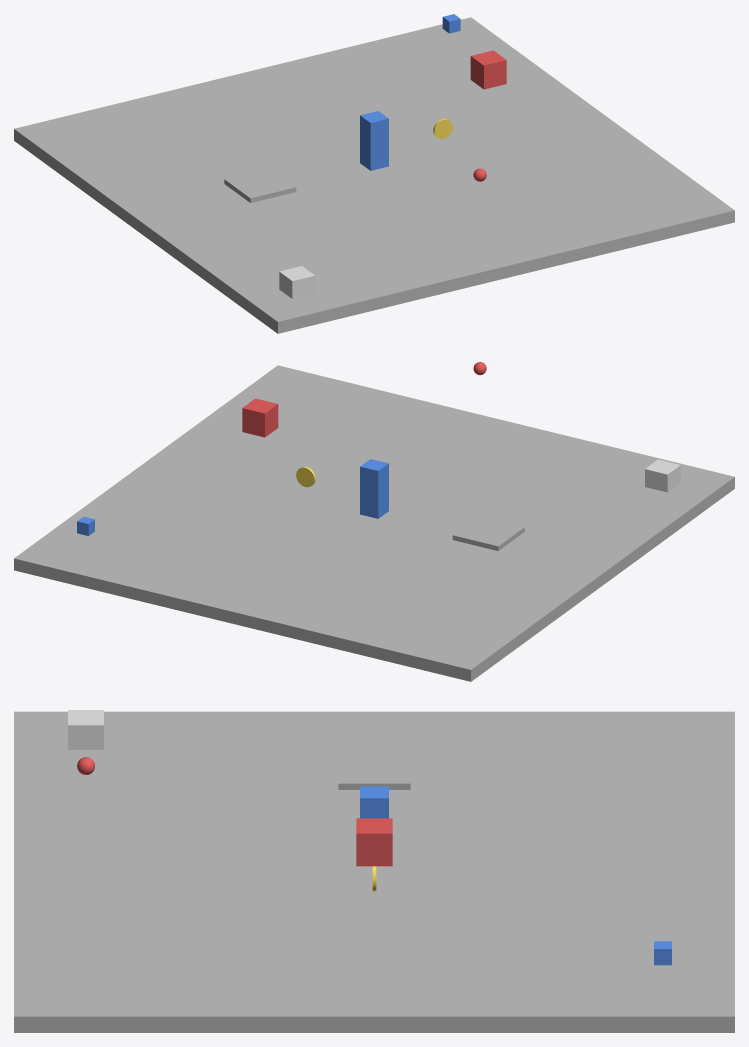
3 views of the same model, one above another, from view 1: azimuth 30°, elevation 25°; view 2: azimuth 150°, elevation 25°; view 3: azimuth 270°, elevation 25° (orthographic). The views are drawn at different scales.
Visible parts, largest first — view 1: Ground, Hero, Lift, Crate, FloorSensor; view 2: Ground, Hero, Lift, Crate, FloorSensor; view 3: Ground, Lift, Crate, FloorSensor, Hero.
Part boxes in pixels (left/top/right/bottom): Ground: left=14, top=17, right=734, bottom=333; Hero: left=360, top=111, right=388, bottom=170; Lift: left=224, top=168, right=296, bottom=202; Crate: left=470, top=50, right=506, bottom=89; FloorSensor: left=279, top=266, right=315, bottom=298; Ground: left=14, top=365, right=734, bottom=681; Hero: left=360, top=459, right=388, bottom=518; Lift: left=452, top=516, right=524, bottom=550; Crate: left=242, top=398, right=278, bottom=437; FloorSensor: left=645, top=459, right=680, bottom=492; Ground: left=14, top=711, right=734, bottom=1032; Lift: left=338, top=753, right=410, bottom=789; Crate: left=356, top=818, right=392, bottom=866; FloorSensor: left=68, top=710, right=103, bottom=749; Hero: left=360, top=786, right=388, bottom=818.
Size of the model in its own units: 20 by 4 by 20.
